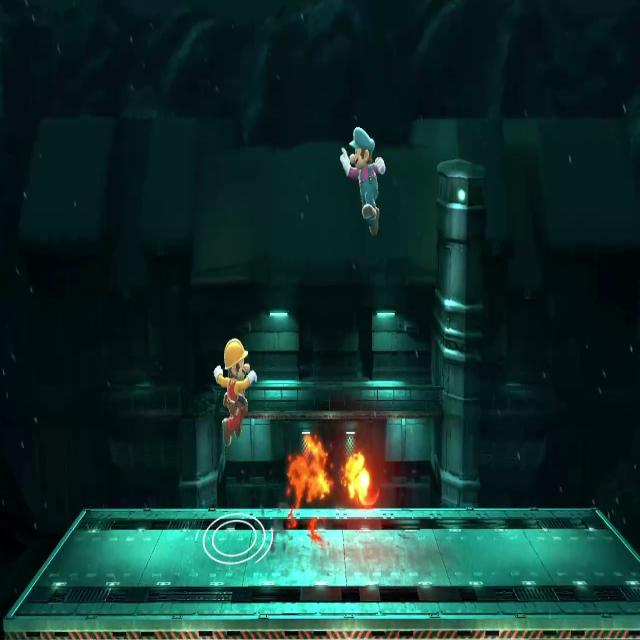Mario-JA: (204, 326, 266, 569)
Mario-NB: (335, 120, 387, 242)
